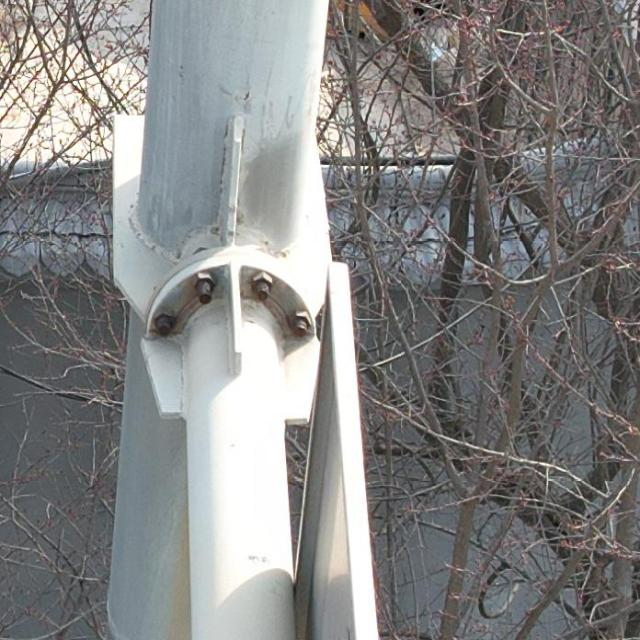blur bolt: (189, 268, 216, 299), (151, 308, 175, 337), (250, 269, 274, 296), (288, 309, 312, 336)
